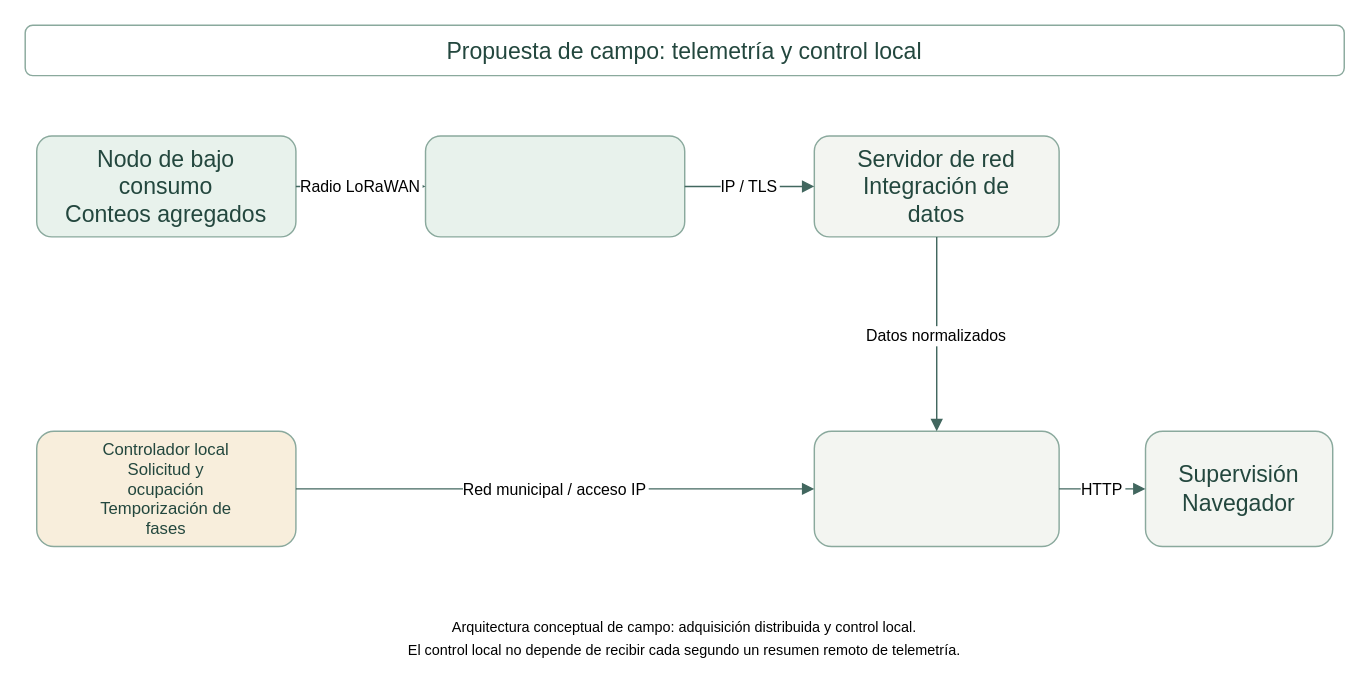
This 1369x684 diagram has some shape labels left out. Here are the shapes that lost their labels. From the top down, the centre of each, then its label:
At (554,186): "Pasarela LoRaWAN Transporte IP".
At (936,488): "Backend / API Históricos y alarmas".
